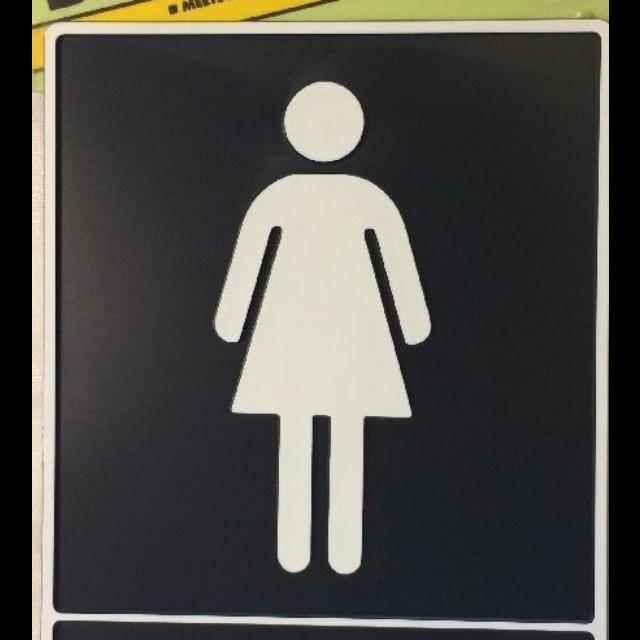womens_restroom: (40, 21, 607, 639)
